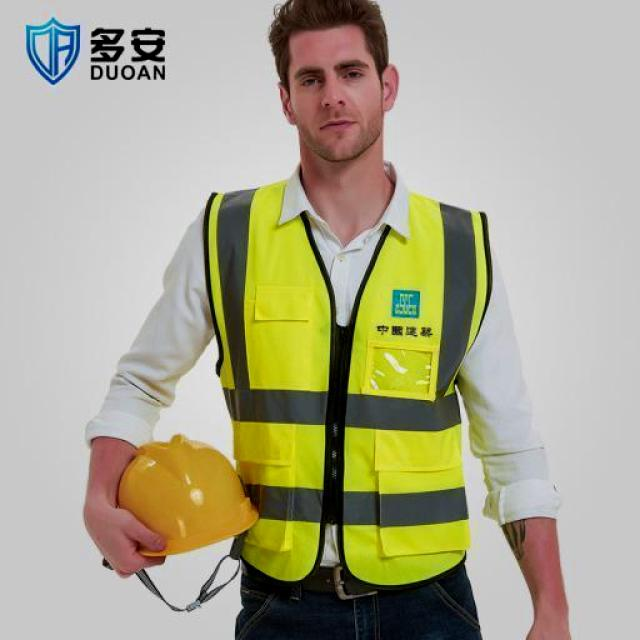face_nomask: (284, 54, 390, 148)
hand_noglove: (87, 497, 171, 584)
head_nohelmet: (272, 0, 400, 41)
person: (78, 0, 582, 640)
vest: (194, 170, 488, 590)
